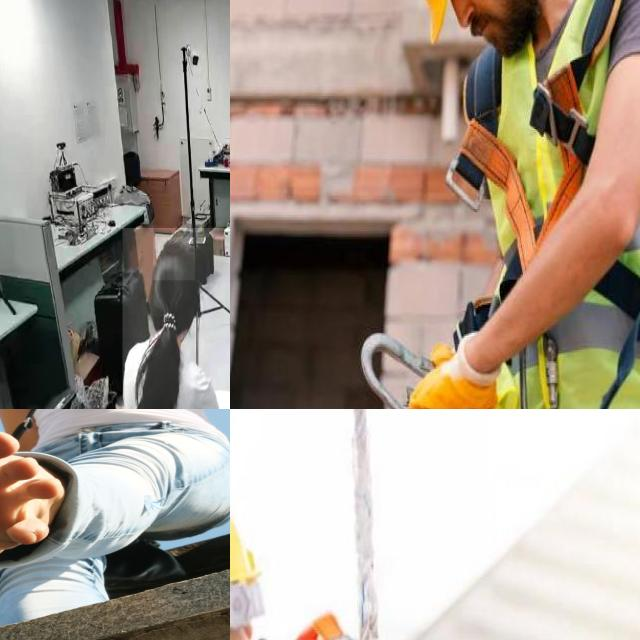Barefoots: (0, 409, 60, 573)
Harness: (449, 0, 622, 270)
head_nohelmet: (153, 237, 195, 281)
person: (122, 228, 230, 409)
